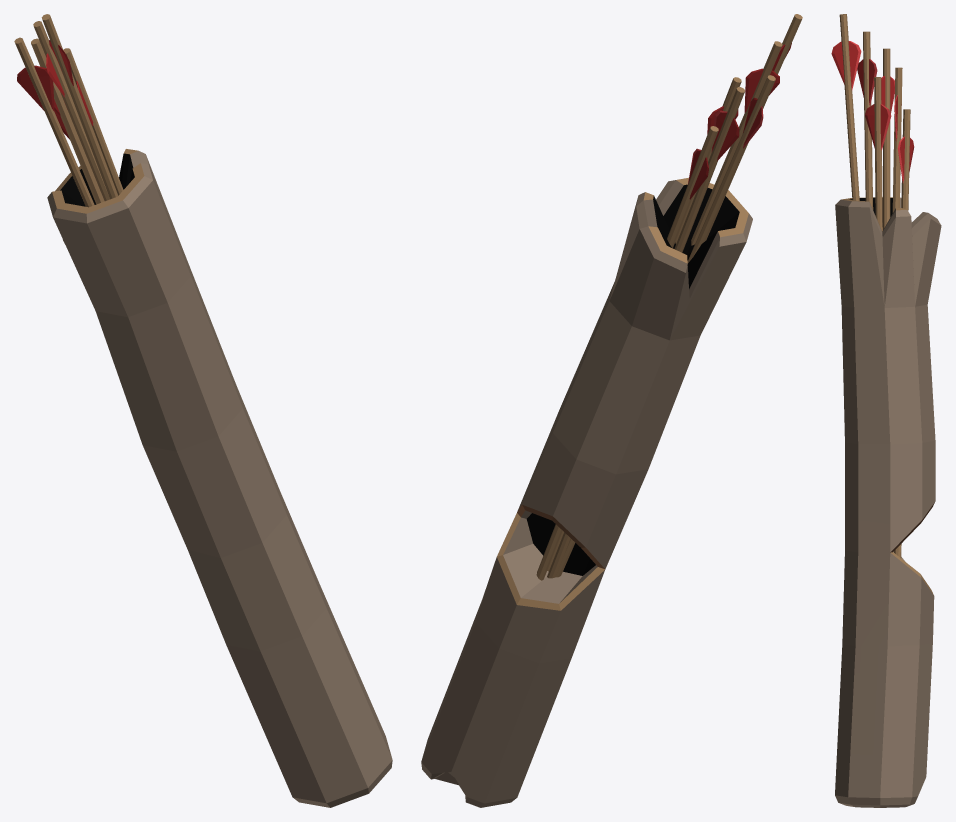
The model's file is BowAmmo.fbx.
3 renders of one model, left to right at view 1: azimuth 30°, elevation 25°; view 2: azimuth 150°, elevation 25°; view 3: azimuth 270°, elevation 25°, orthographic. The views are drawn at different scales.
Visible parts, largest first — view 1: bow_Storage; view 2: bow_Storage; view 3: bow_Storage.
Boxes of the visible parts, x1,y1,x2,y2 form: bow_Storage: (14,14,392,807); bow_Storage: (421,14,802,807); bow_Storage: (831,14,941,807).
Size of the model in its own units: 55.19 by 125 by 18.32.
